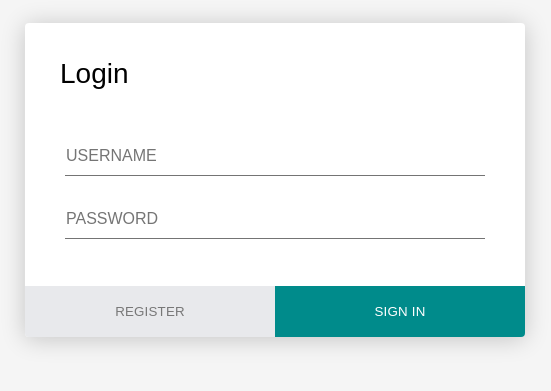
Test: Test login process › should not be able to login with invalid password
The width and height of the screenshot is (551, 391).
Step 1. Type "incorrect" into the field named "username" → x=275, y=157, box [65,137,485,176]
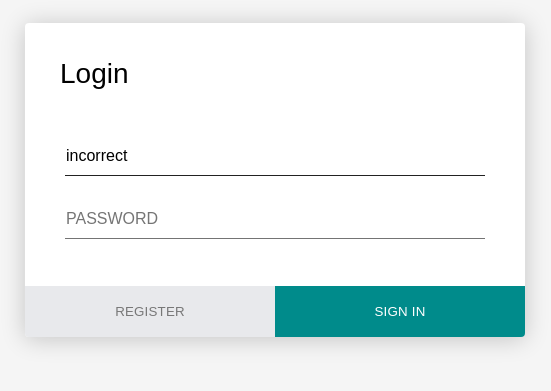
Step 2. Type "incorrect" into the password field named "password" → x=275, y=220, box [65,200,485,239]
Then press Enter
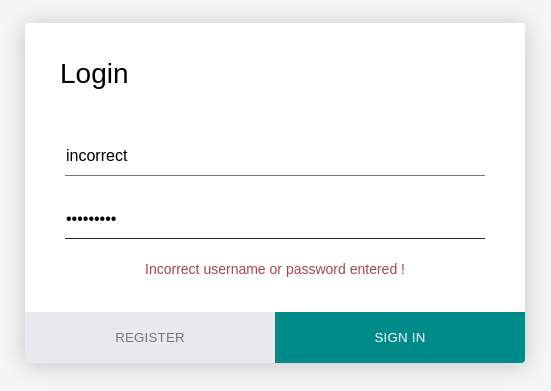
Check: the text "Incorrect username or password entered !" is shown, box [145,261,405,277]
